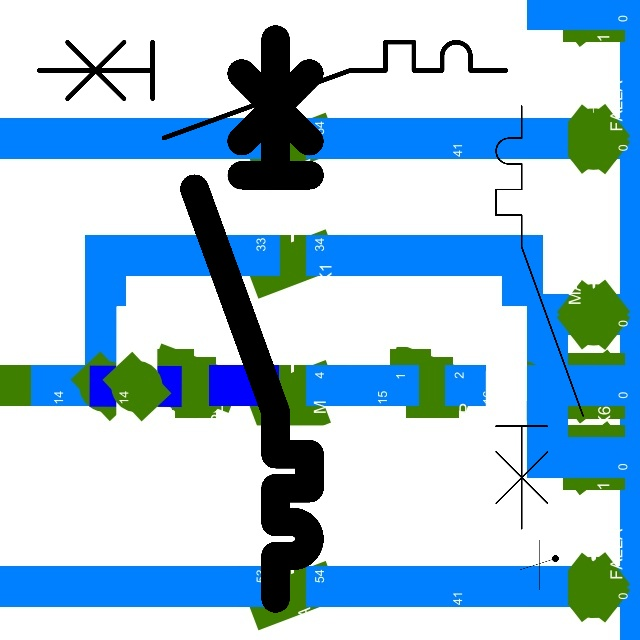interruptor_termomagnetico: (180, 25, 324, 613), (27, 30, 518, 150), (485, 95, 594, 540)
